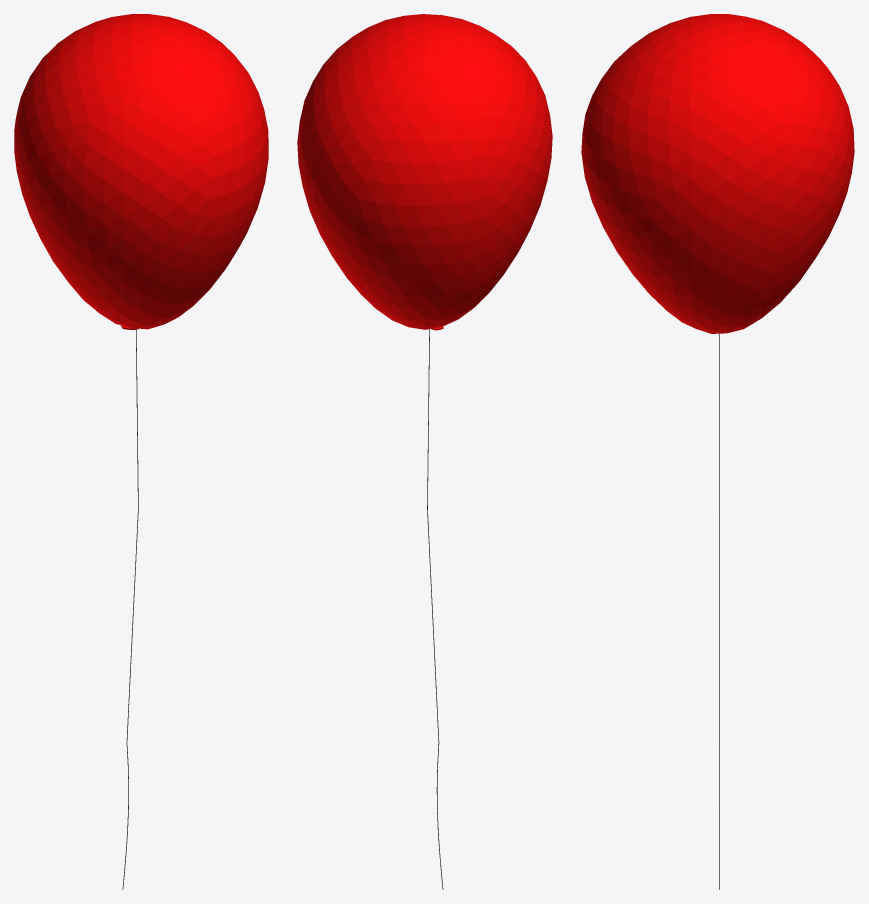
The model's file is red_balloon.dae.
The picture shows the model from 3 angles, left to right: view 1: azimuth 30°, elevation 25°; view 2: azimuth 150°, elevation 25°; view 3: azimuth 270°, elevation 25°; orthographic projection.
Visible parts, largest first — view 1: GeoSphere0, Line02; view 2: GeoSphere0, Line02; view 3: GeoSphere0, Line02.
Part boxes in pixels (x1,y1,x2,y2): GeoSphere0: [14, 14, 268, 329]; Line02: [122, 329, 138, 889]; GeoSphere0: [297, 14, 552, 329]; Line02: [427, 329, 443, 889]; GeoSphere0: [581, 14, 854, 333]; Line02: [719, 333, 719, 889].
Size of what is drawn, in the model's own units: 0.4922 by 0.5274 by 1.86.
